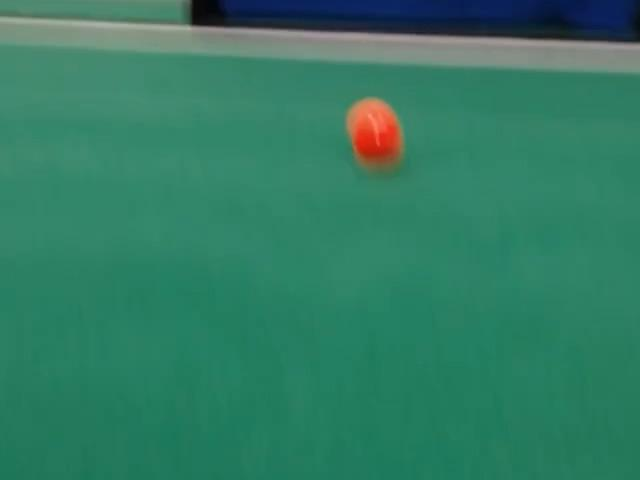Ball: (347, 99, 403, 167)
